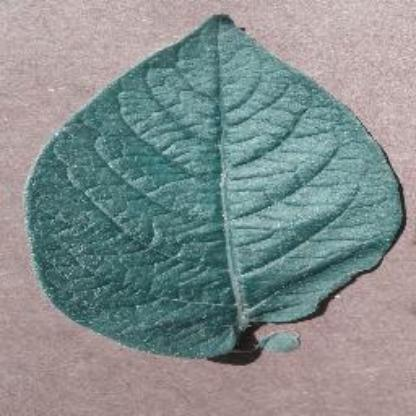Healthy-plant: (22, 14, 402, 366)
